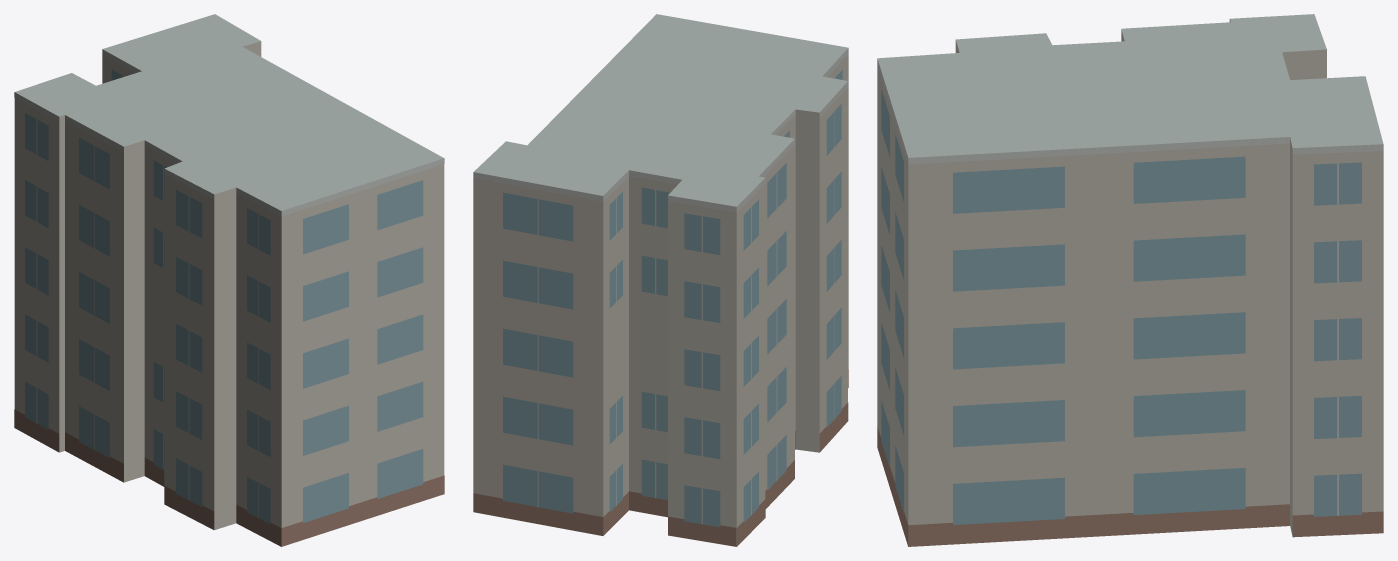
File: survey-upis-32989587.glb
3 renders of one model, left to right at view 1: azimuth 30°, elevation 25°; view 2: azimuth 150°, elevation 25°; view 3: azimuth 270°, elevation 25°, orthographic. The views are drawn at different scales.
Parts seen in each view (by area): view 1: survey-upis-32989587.tmp; view 2: survey-upis-32989587.tmp; view 3: survey-upis-32989587.tmp.
Part boxes in pixels (x1=…): survey-upis-32989587.tmp: x1=14, y1=14, x2=444, y2=546; survey-upis-32989587.tmp: x1=473, y1=14, x2=848, y2=546; survey-upis-32989587.tmp: x1=877, y1=14, x2=1383, y2=546.
Size of the model in its own units: 11.43 by 14.4 by 16.99.
